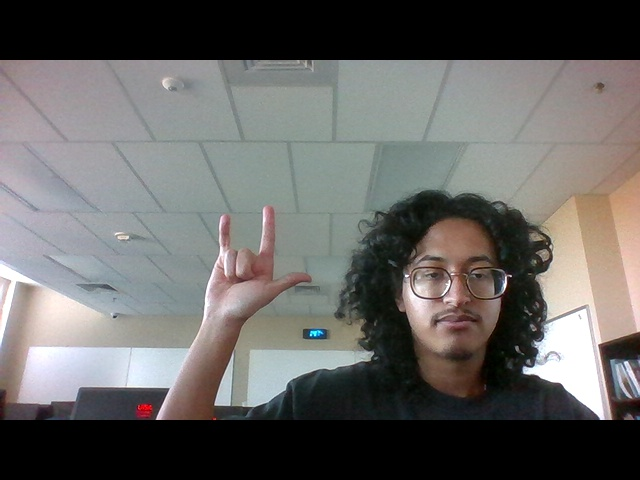iloveyou: (194, 199, 322, 338)
